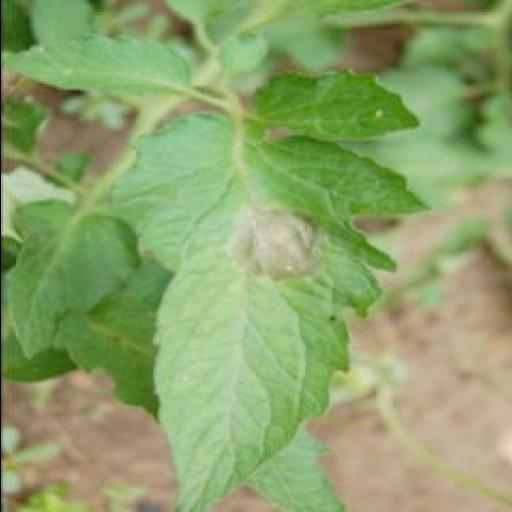disease_tomato: (104, 111, 434, 512)
